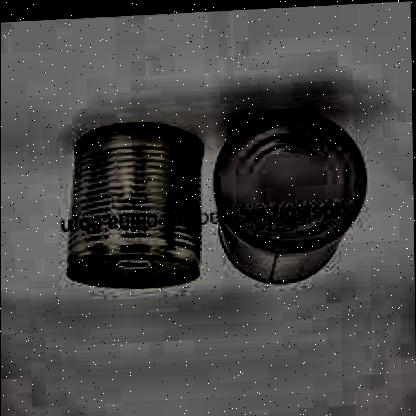Can: (206, 102, 370, 288), (60, 110, 209, 292)
